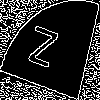Z: (24, 25, 60, 78)
